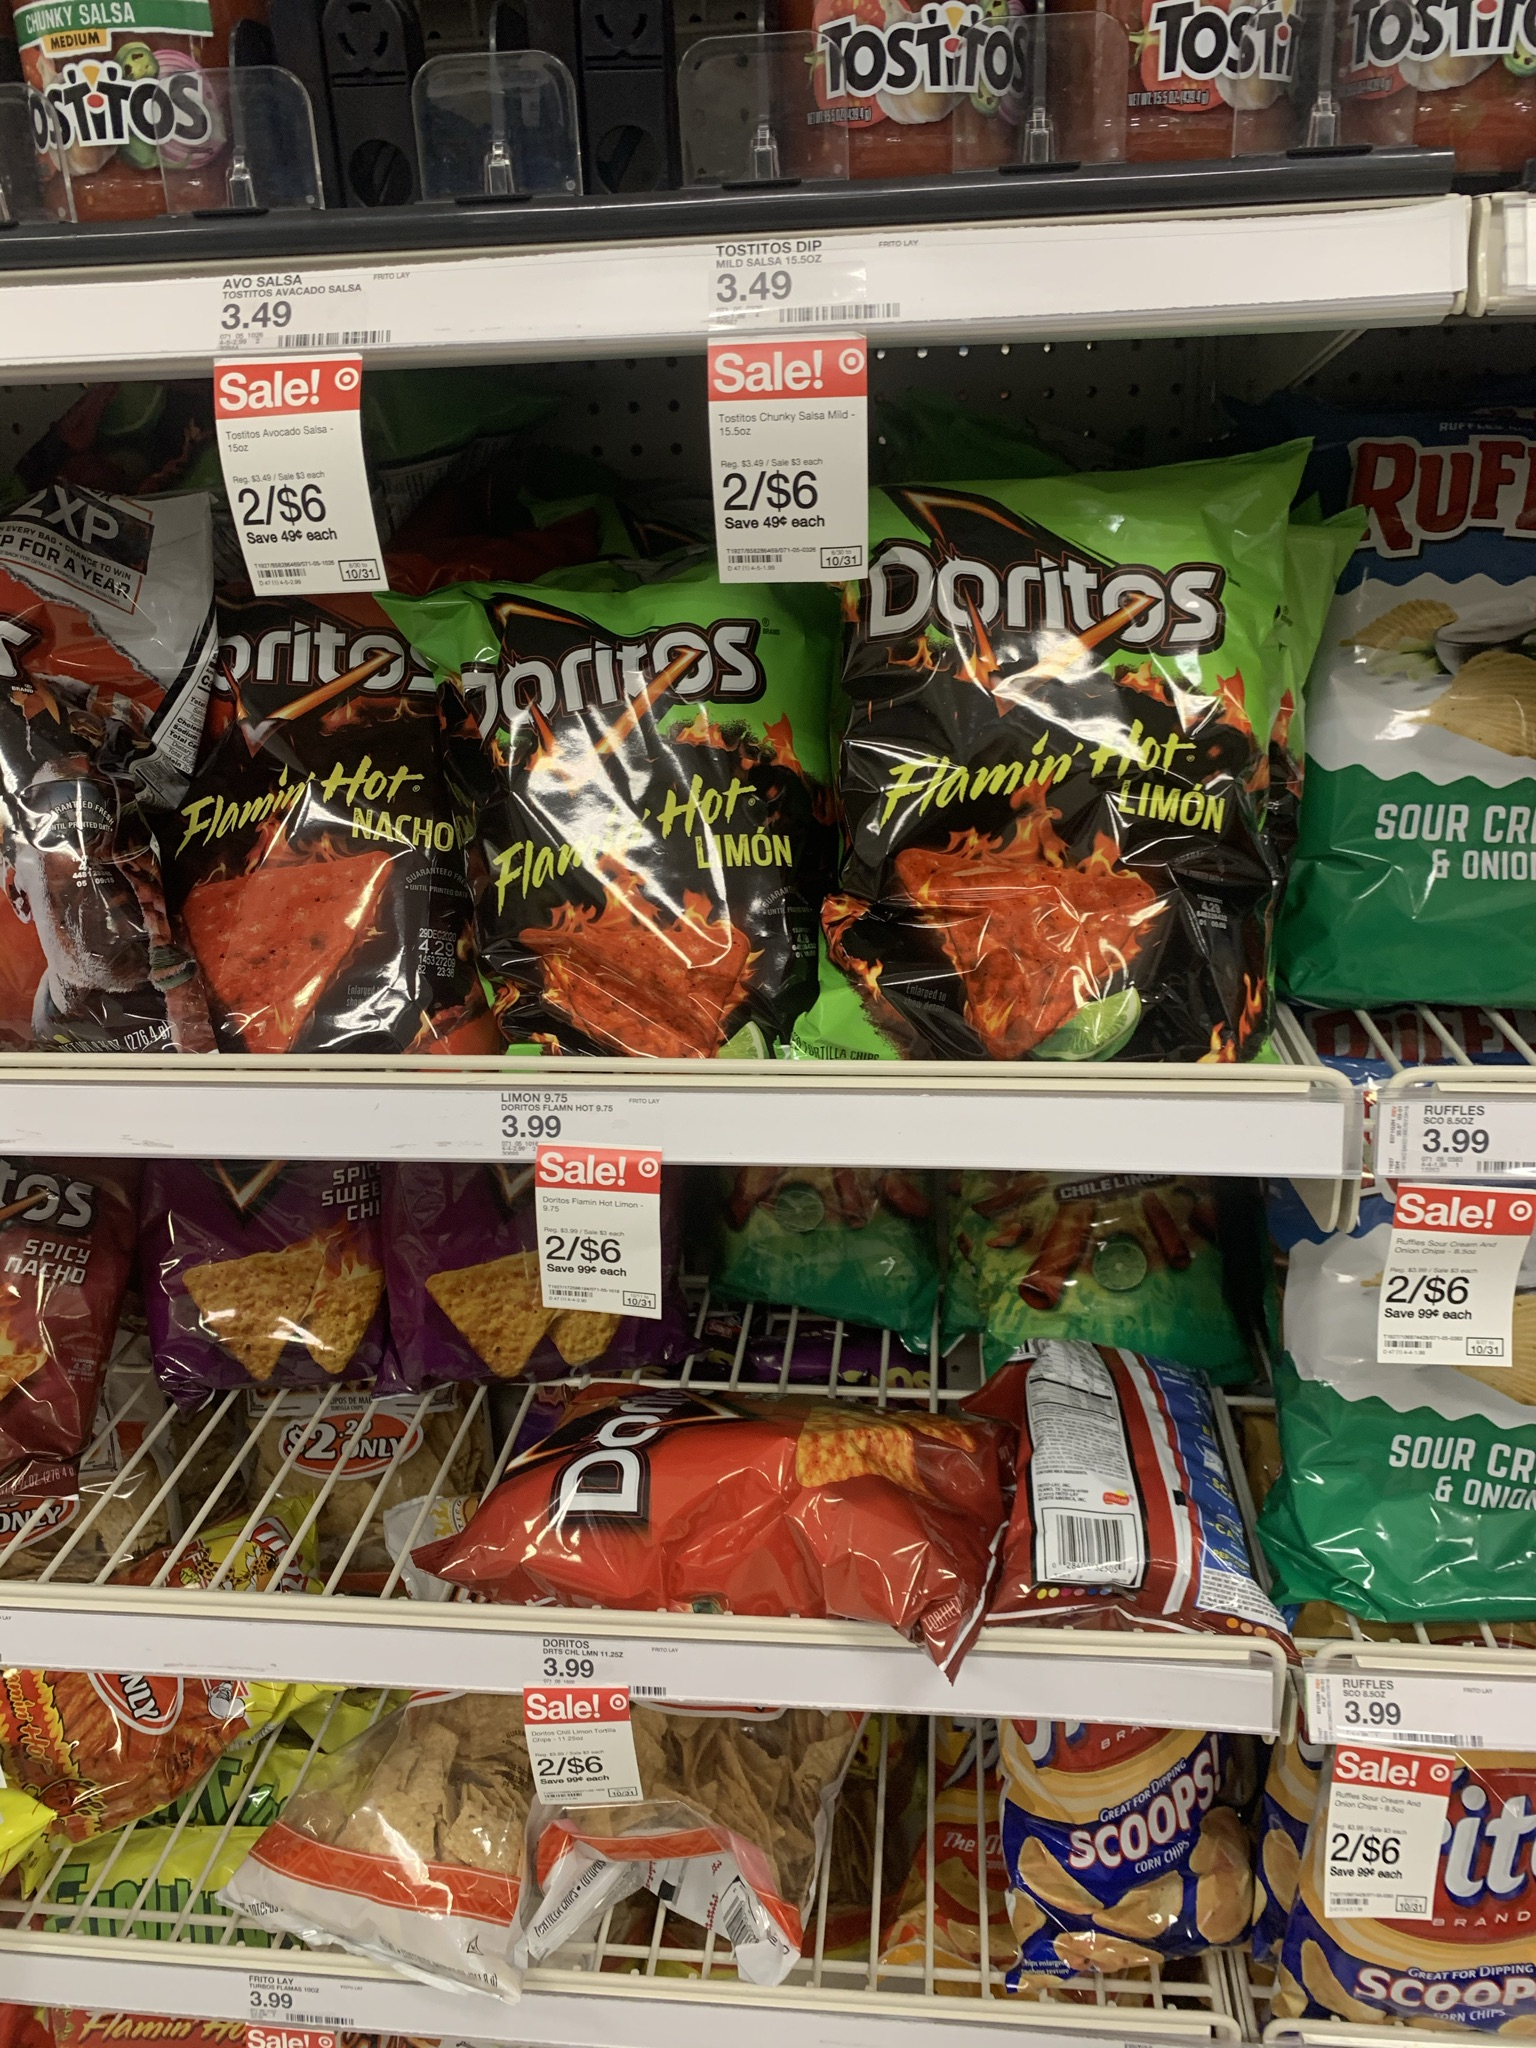doritos chips: (849, 493, 1270, 1029), (492, 611, 828, 1035), (210, 629, 479, 1084), (539, 1429, 994, 1605)
ruffles chips: (1338, 435, 1536, 955)
